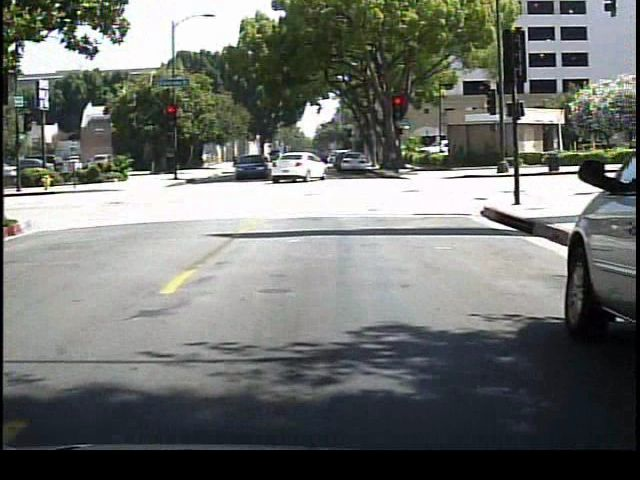person: (315, 144, 331, 180)
